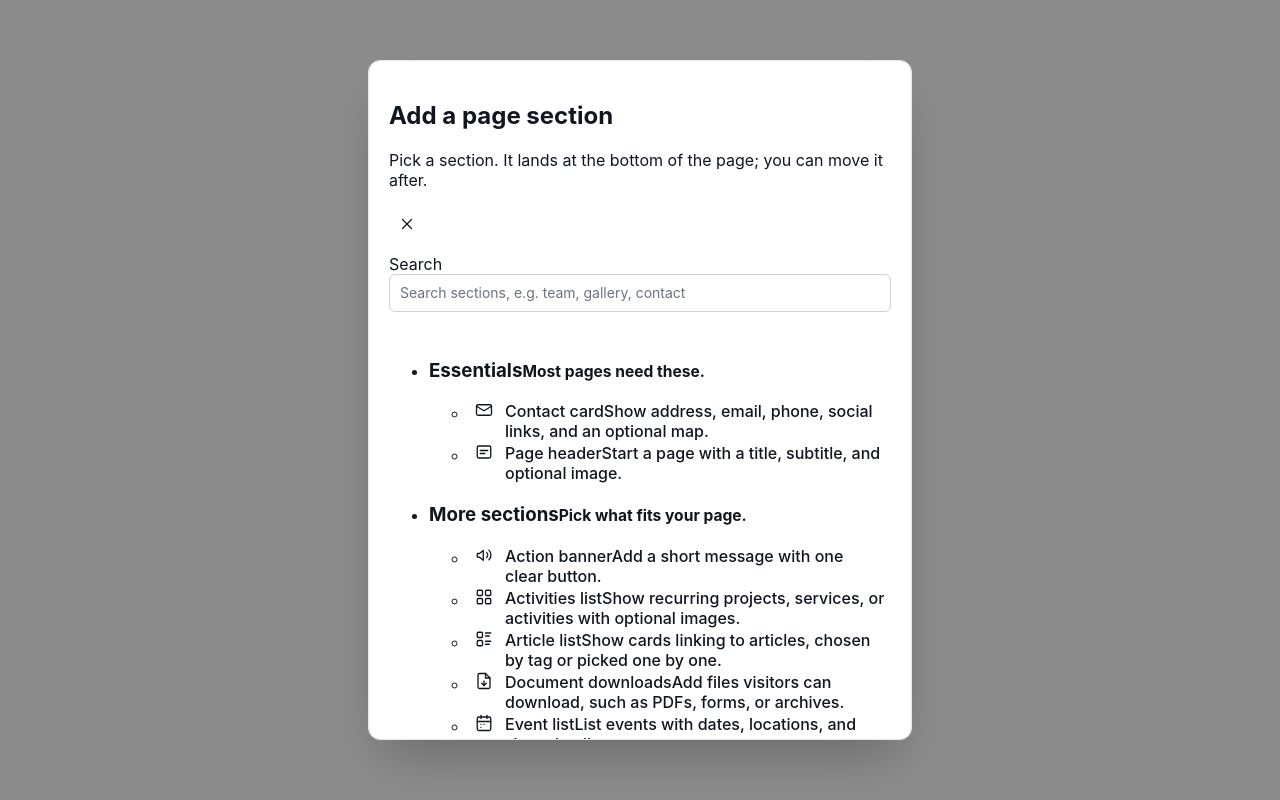
it: AddBlockDialog › typing in the search box filters out non-matching entries
Type "totally not a block name" into the search field with test id "add-block-search" at (640,293), box [389,274,891,312]
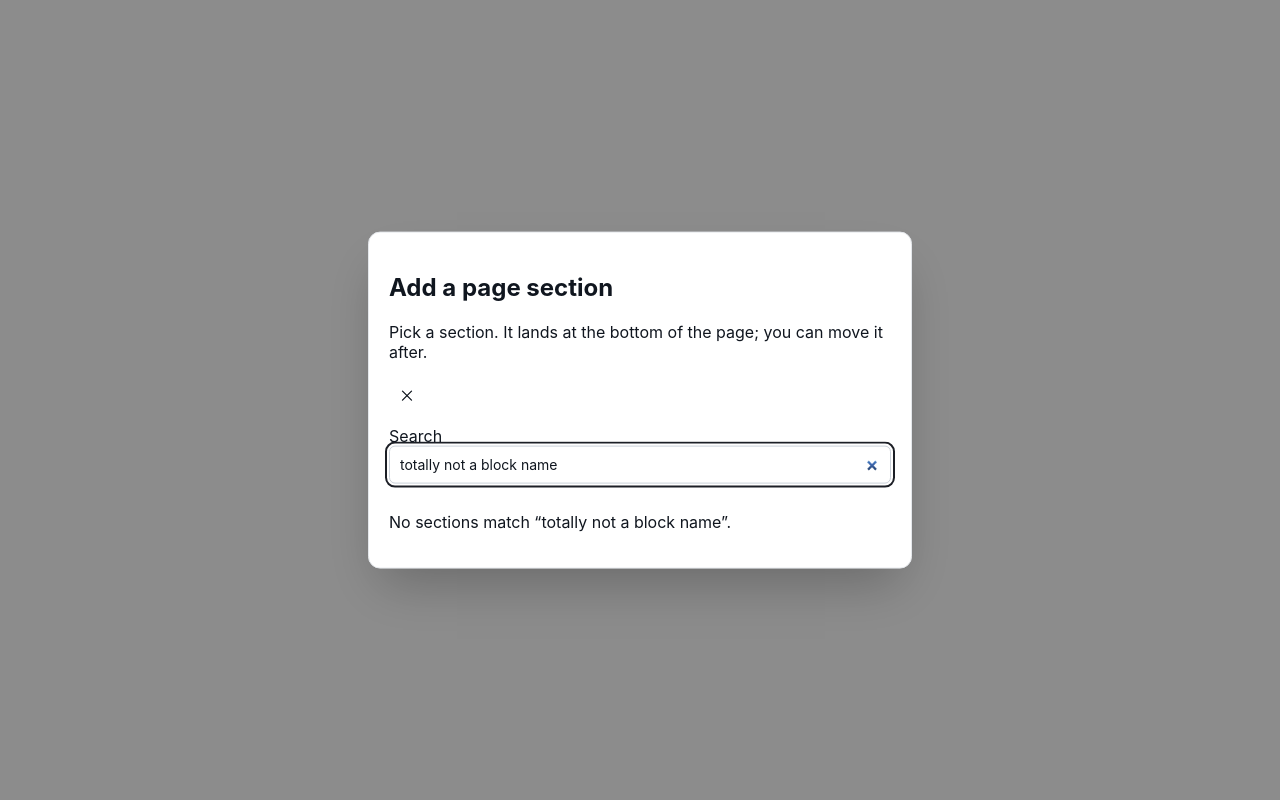
Check: no buttons with test id "add-block-entry" are shown
